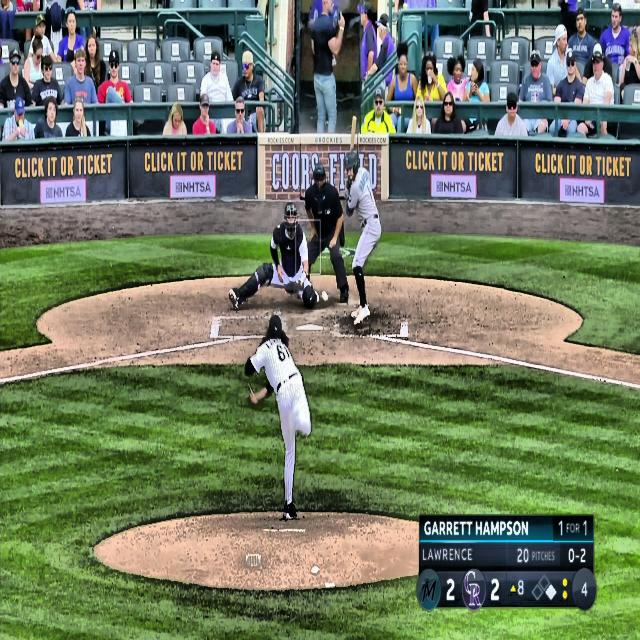baseball: (321, 290, 329, 303)
